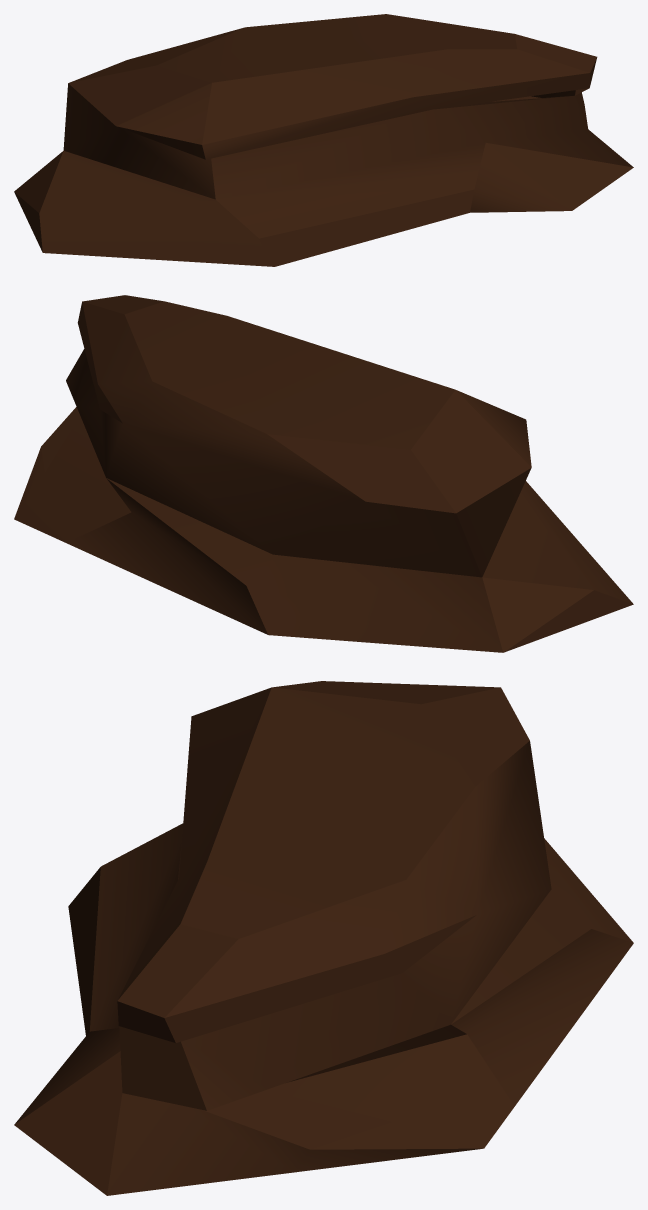
File: SM_DesertRock.fbx
3 renders of one model, top to bottom at view 1: azimuth 30°, elevation 25°; view 2: azimuth 150°, elevation 25°; view 3: azimuth 270°, elevation 25°, orthographic. The views are drawn at different scales.
Visible parts, largest first — view 1: SM_DesertRock; view 2: SM_DesertRock; view 3: SM_DesertRock.
Boxes of the visible parts, x1=… form: SM_DesertRock: x1=14, y1=14, x2=633, y2=266; SM_DesertRock: x1=14, y1=295, x2=633, y2=652; SM_DesertRock: x1=14, y1=681, x2=633, y2=1195.
Bounding box in the file's own units: 325 × 205 × 80.31.
